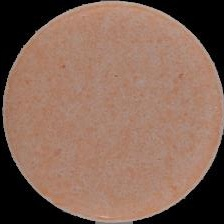16729-183: (0, 0, 224, 224)
